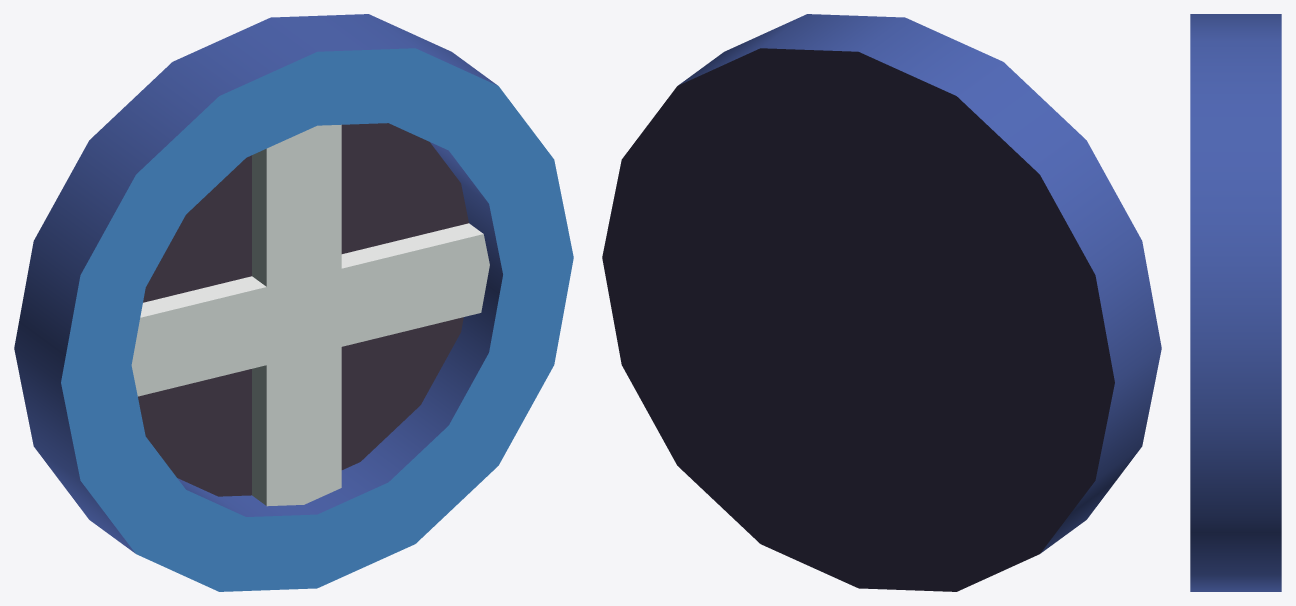
The model's file is SmallWindow02_Blue_White.glb.
3 views of the same model, side by side, from view 1: azimuth 30°, elevation 25°; view 2: azimuth 150°, elevation 25°; view 3: azimuth 270°, elevation 25° (orthographic). The views are drawn at different scales.
Parts seen in each view (by area): view 1: SmallWindow02_Blue_White; view 2: SmallWindow02_Blue_White; view 3: SmallWindow02_Blue_White.
Part boxes in pixels (box(x1,y1,x2,y2)): SmallWindow02_Blue_White: box(14, 14, 573, 591); SmallWindow02_Blue_White: box(602, 14, 1161, 591); SmallWindow02_Blue_White: box(1190, 14, 1281, 591).
Bounding box in the file's own units: 0.5633 × 0.5633 × 0.089.
Materials: 1 (1 with a texture image).
